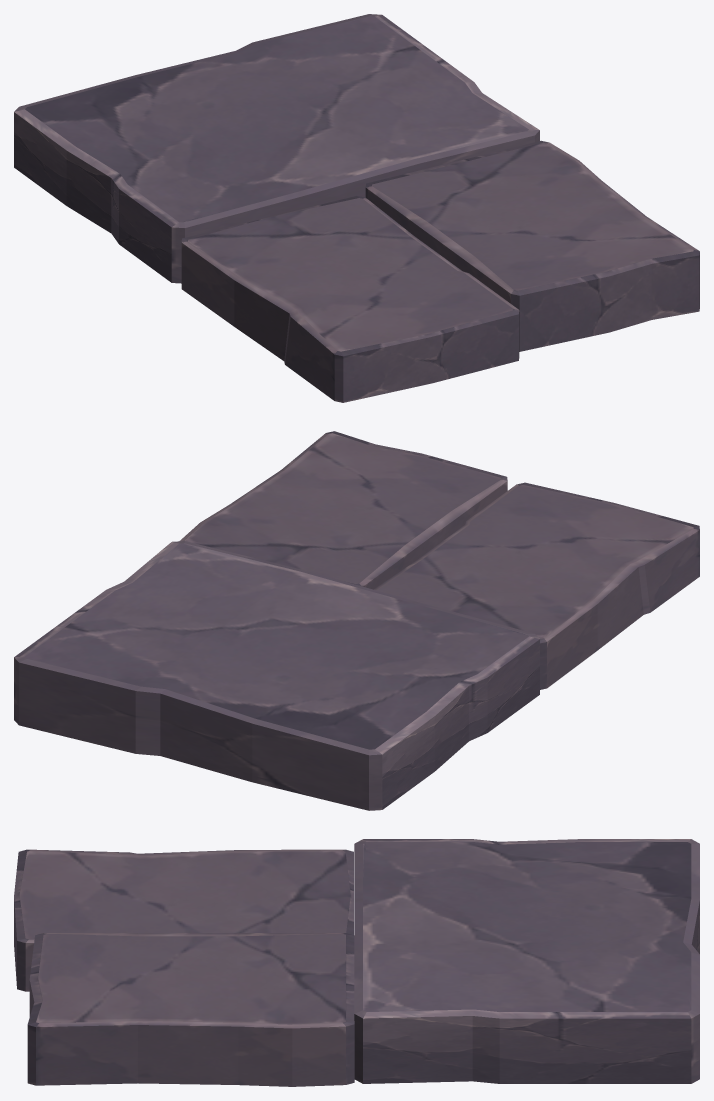
The model's file is Stone_tile_c.FBX.
3 views of the same model, one above another, from view 1: azimuth 30°, elevation 25°; view 2: azimuth 150°, elevation 25°; view 3: azimuth 270°, elevation 25° (orthographic). The views are drawn at different scales.
Visible parts, largest first — view 1: Box016; view 2: Box016; view 3: Box016.
Boxes of the visible parts, box(x1,y1,x2,y2) form: Box016: box(14, 14, 699, 402); Box016: box(14, 431, 699, 810); Box016: box(14, 839, 699, 1086).
Bounding box in the file's own units: 3.55 × 0.6 × 5.41.
Materials: 1 (1 with a texture image).
